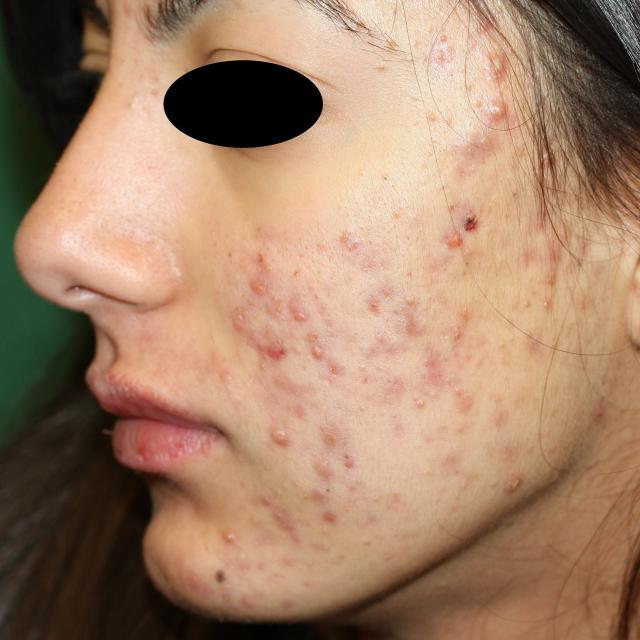Acne: (379, 279, 474, 424), (229, 251, 341, 362), (294, 381, 364, 543), (474, 398, 530, 499), (514, 255, 578, 338), (427, 187, 486, 256), (474, 45, 510, 132), (240, 579, 320, 616), (426, 34, 470, 85), (190, 550, 232, 596), (210, 516, 262, 545), (270, 410, 289, 460), (332, 218, 362, 245)
